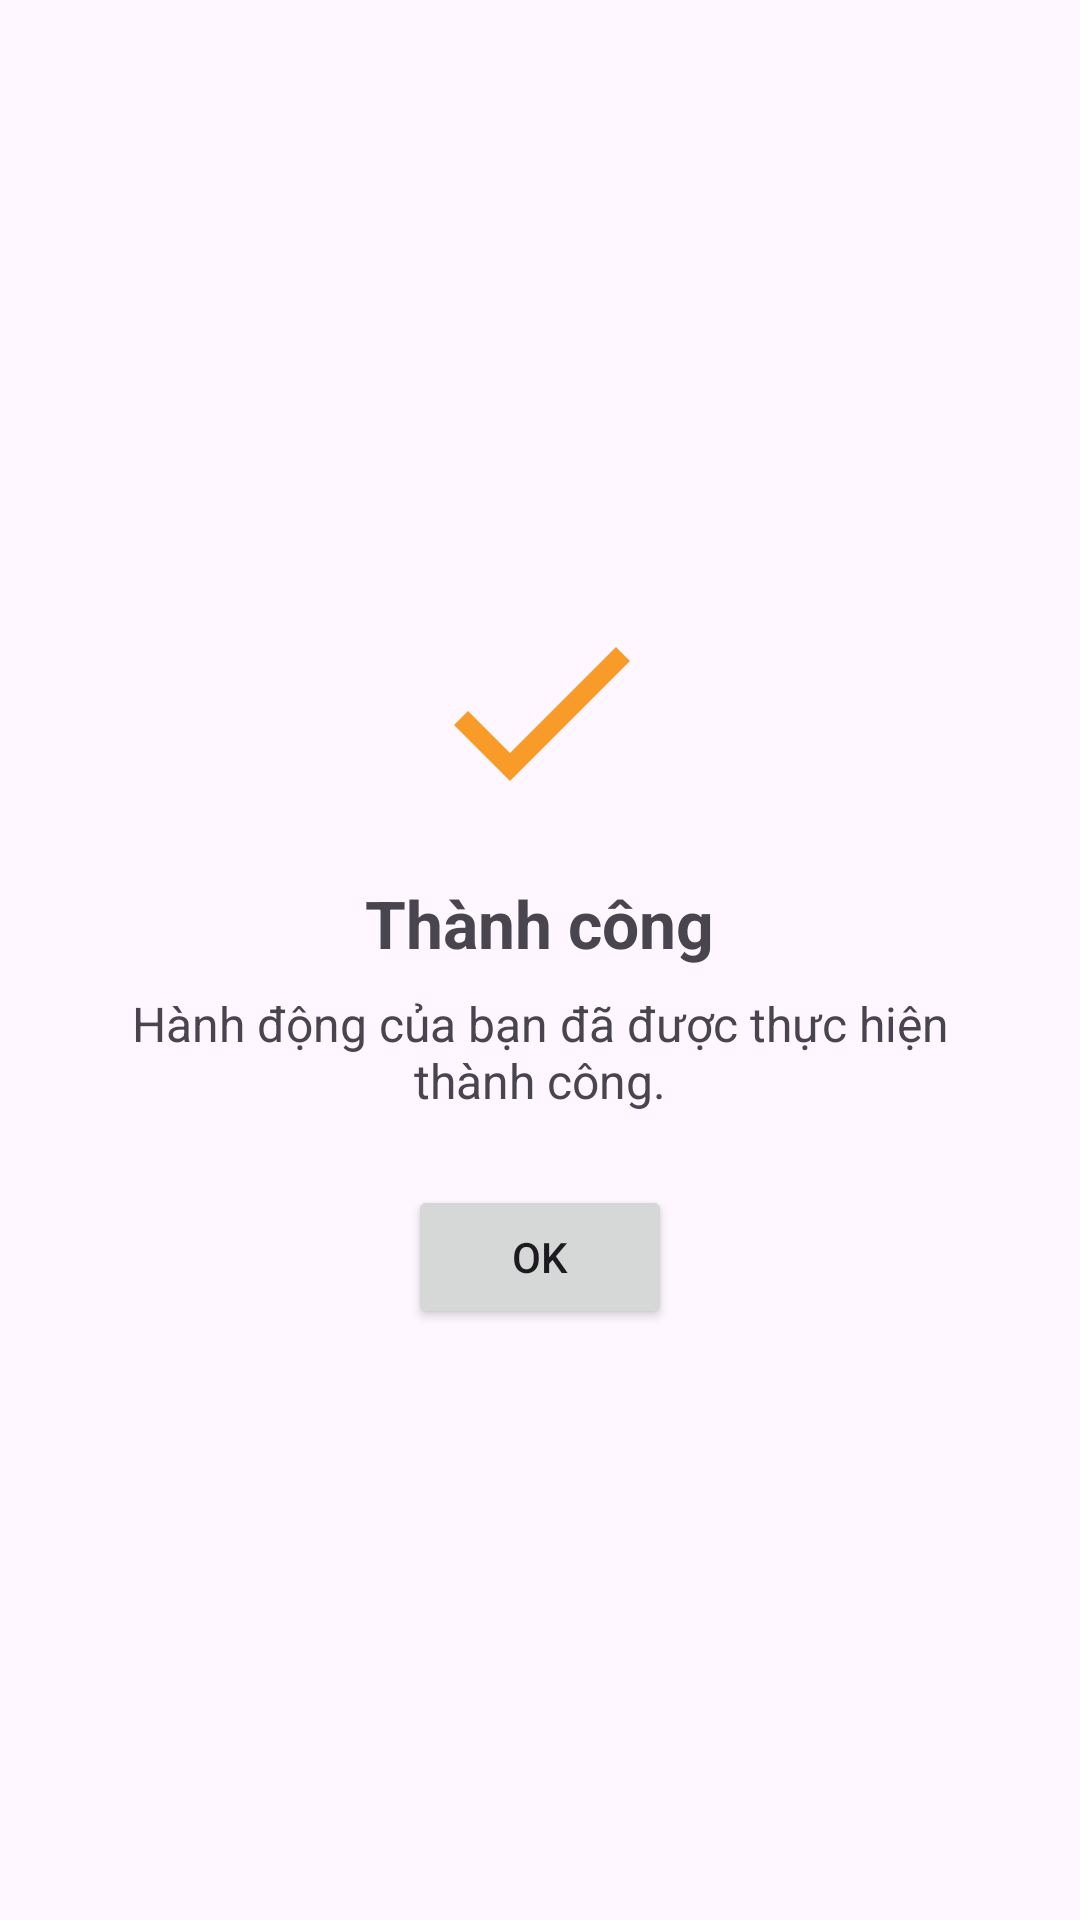

Named icons in this screenshot (1080 × 1920) and their centers, (x=x, y=y):
success: (x=542, y=714)
